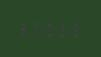five: (57, 20, 69, 37)
seven: (31, 19, 43, 36)
six: (70, 20, 82, 38)
three: (18, 18, 30, 36)
zero: (44, 19, 56, 37)
